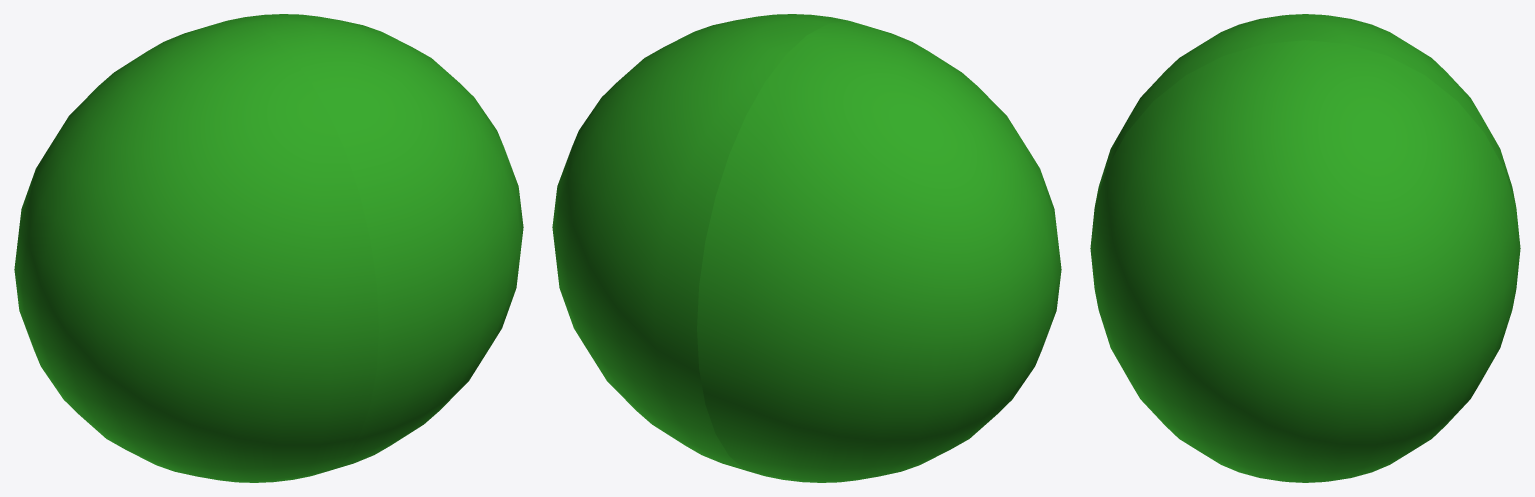
Rendered from Watermelon_Cut.fbx.
3 views of the same model, side by side, from view 1: azimuth 30°, elevation 25°; view 2: azimuth 150°, elevation 25°; view 3: azimuth 270°, elevation 25° (orthographic). The views are drawn at different scales.
Visible parts, largest first — view 1: Sphere.001, Sphere.002; view 2: Sphere.001, Sphere.002; view 3: Sphere.002, Sphere.001.
Boxes of the visible parts, <box> form: Sphere.001: <box>14,20,378,482</box>; Sphere.002: <box>228,14,523,472</box>; Sphere.001: <box>697,20,1061,482</box>; Sphere.002: <box>552,14,847,472</box>; Sphere.002: <box>1090,40,1520,482</box>; Sphere.001: <box>1095,14,1515,205</box>.
Bounding box in the file's own units: 0.8744 × 0.7744 × 0.7243.
